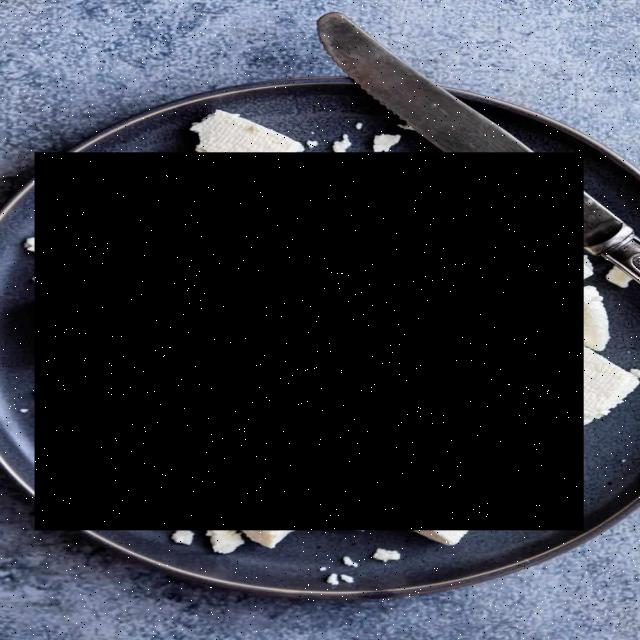Paneer: (34, 152, 584, 530)
